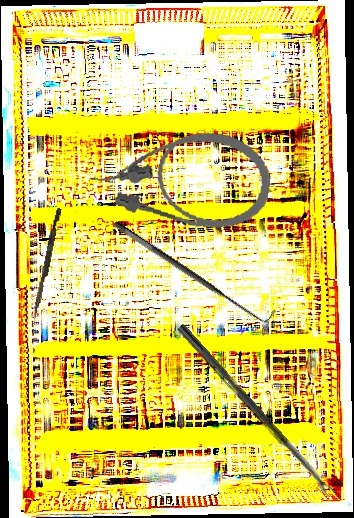Cannula: (86, 116, 276, 237)
Hook Surgical: (111, 208, 278, 332)
Pusher: (32, 207, 62, 321)
Surgical Spoon: (175, 323, 336, 499)
